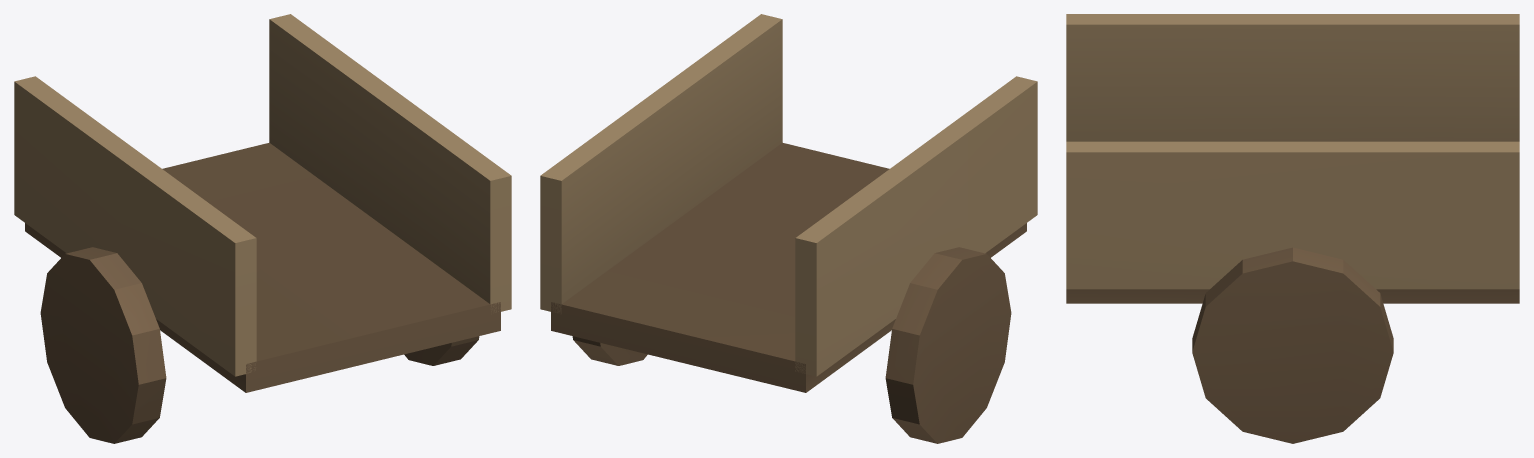
The model's file is handcart.glb.
3 renders of one model, left to right at view 1: azimuth 30°, elevation 25°; view 2: azimuth 150°, elevation 25°; view 3: azimuth 270°, elevation 25°, orthographic. The views are drawn at different scales.
Parts seen in each view (by area): view 1: handcart; view 2: handcart; view 3: handcart.
Boxes of the visible parts, bbox=[...] form: handcart: bbox=[14, 14, 511, 443]; handcart: bbox=[540, 14, 1037, 443]; handcart: bbox=[1066, 14, 1519, 443].
Size of the model in its own units: 1.63 by 1.2 by 1.8.
